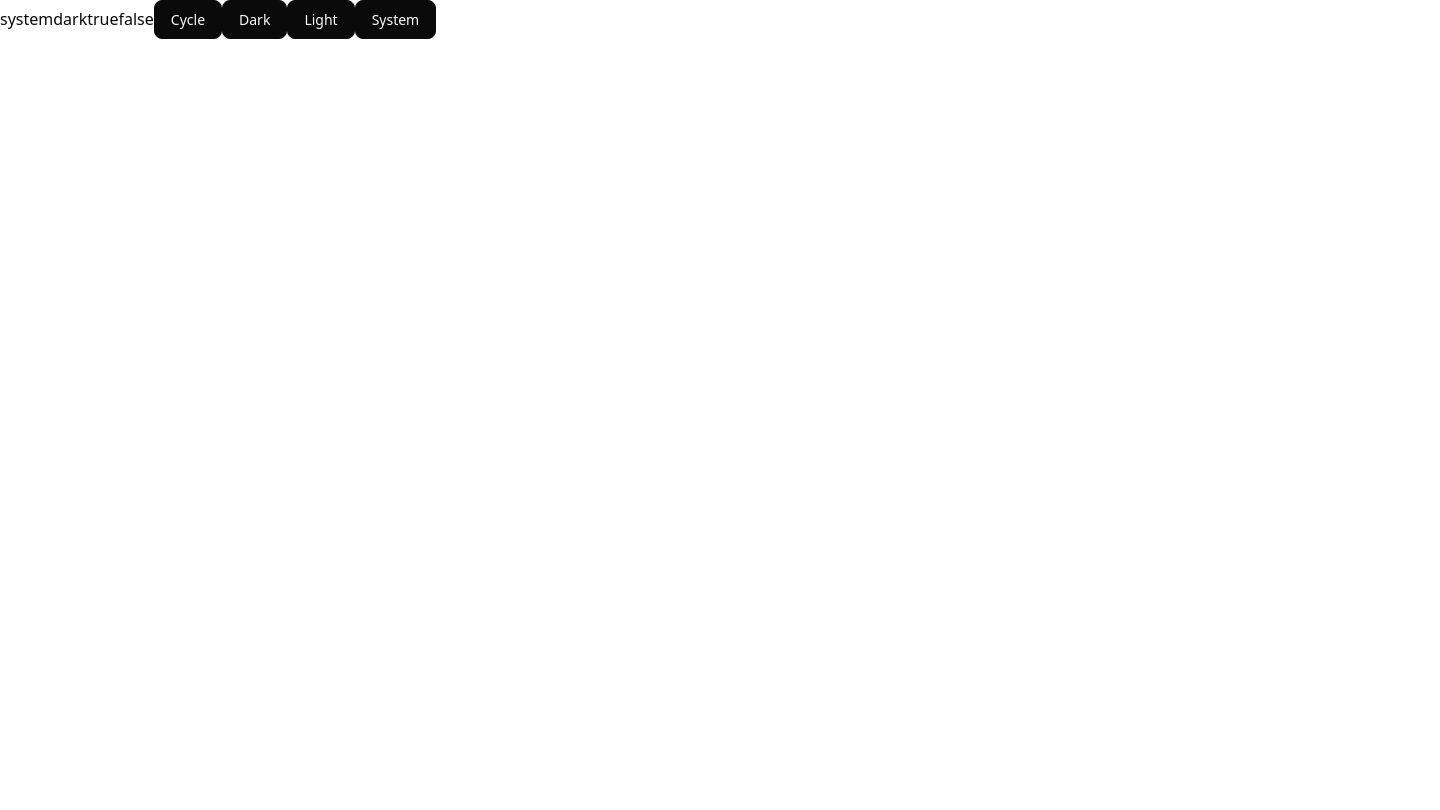
Test: ThemeProvider › Theme Cycling › should cycle through modes: system -> light -> dark -> system
Expected: the text with test id "mode" reads "system", [0,8,53,30]
Click the button with test id "cycle" at [188, 20], box [154,0,222,39]
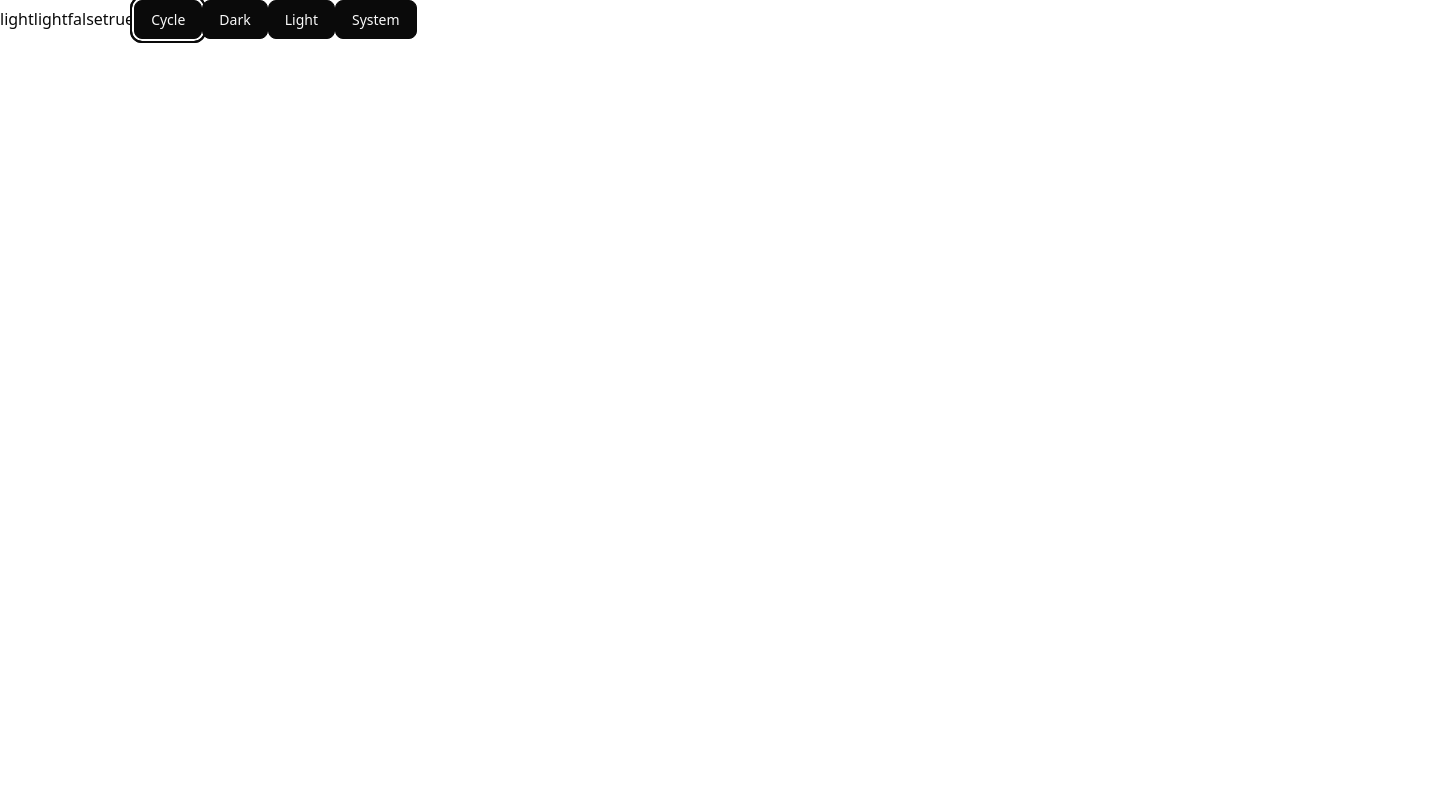
Result: the text with test id "mode" reads "light" at [0,8,34,30]
Click the button with test id "cycle" at [168, 20], box [134,0,202,39]
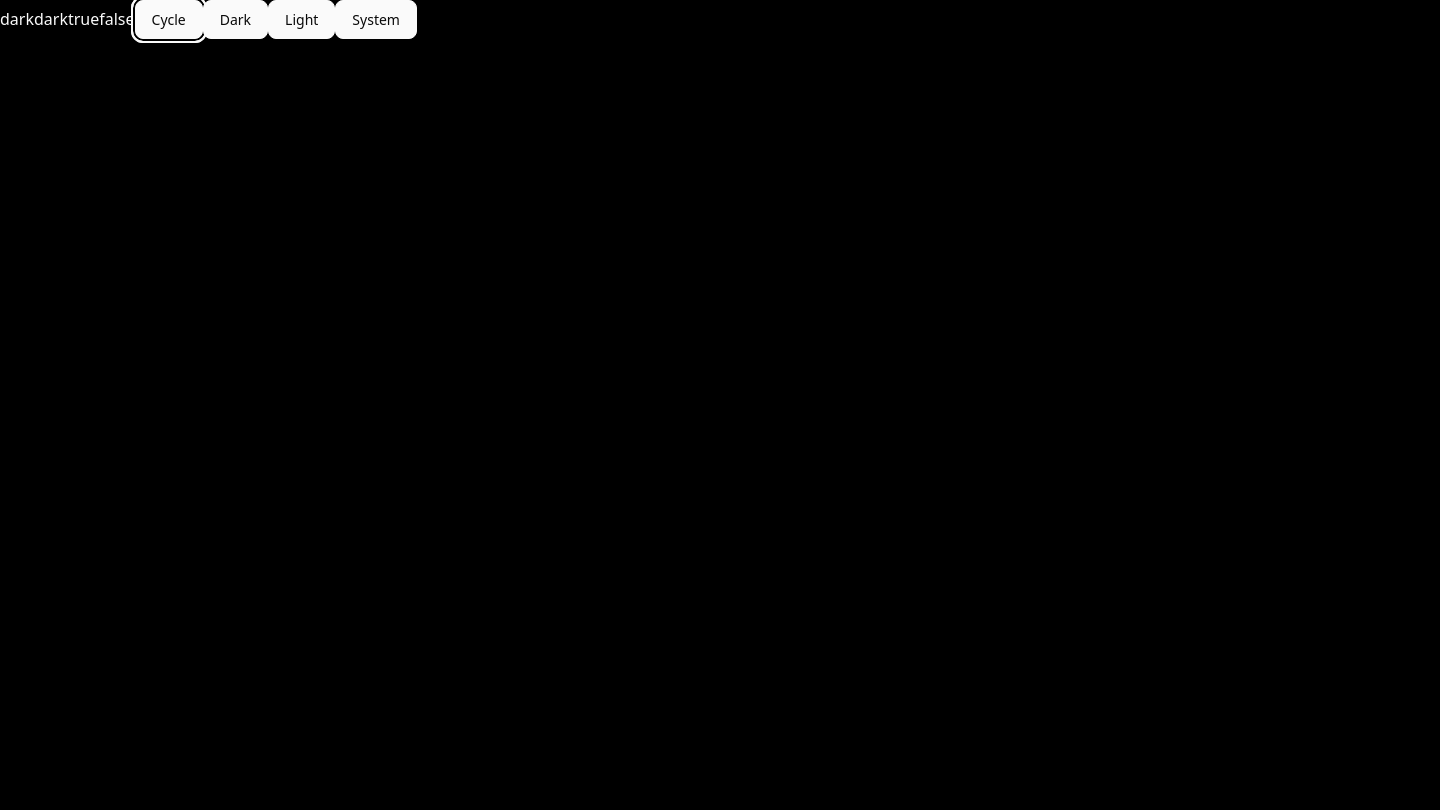
Result: the text with test id "mode" reads "dark" at [0,8,34,30]
Click the button with test id "cycle" at [169, 20], box [134,0,203,39]
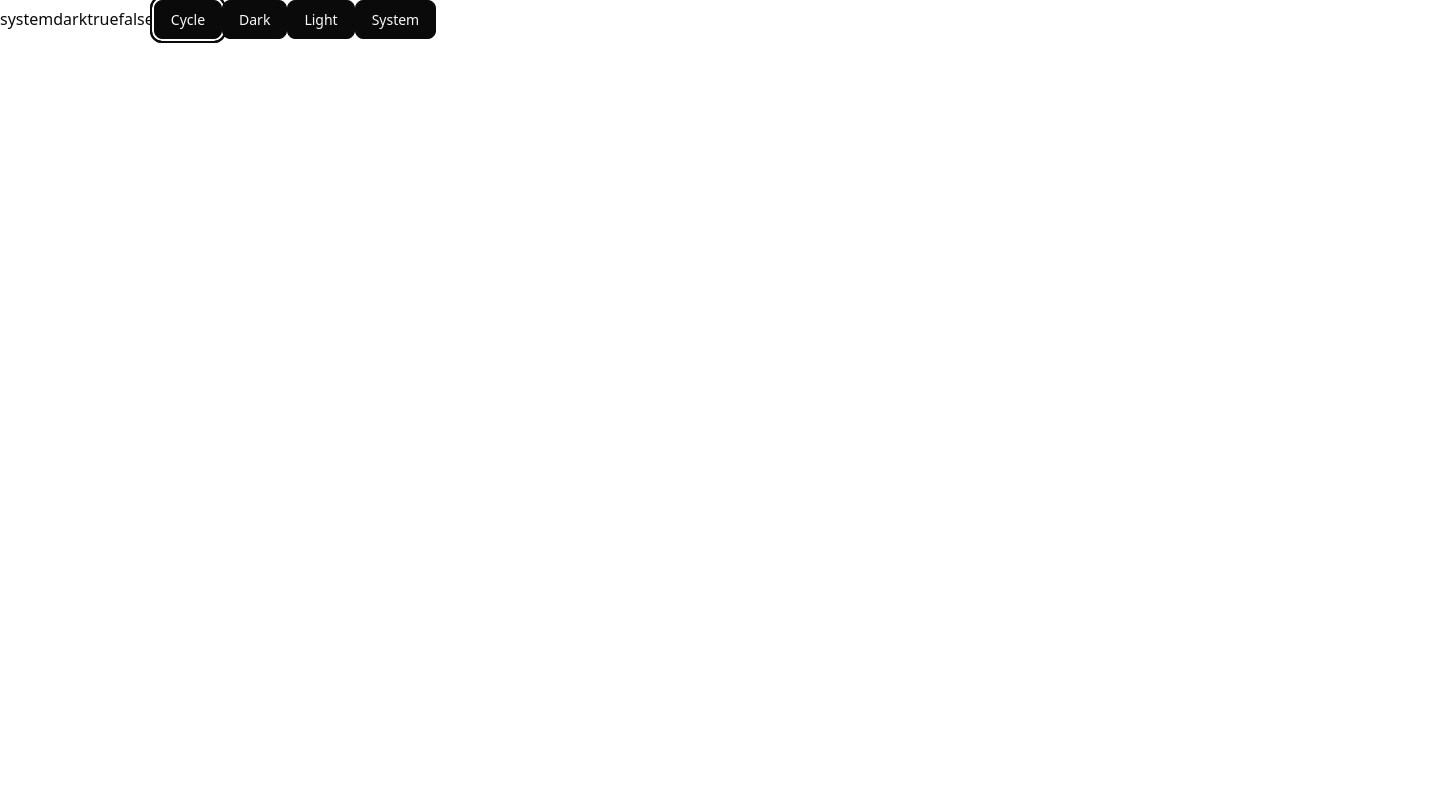
Result: the text with test id "mode" reads "system" at [0,8,53,30]
